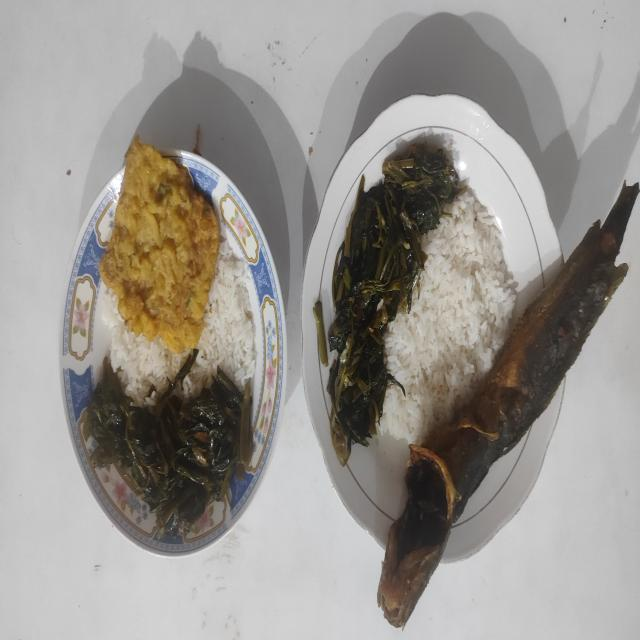nasi_putih: (378, 192, 518, 444), (176, 238, 262, 400), (101, 290, 189, 406)
tumis_kangkung: (327, 142, 467, 466), (83, 358, 251, 538)
